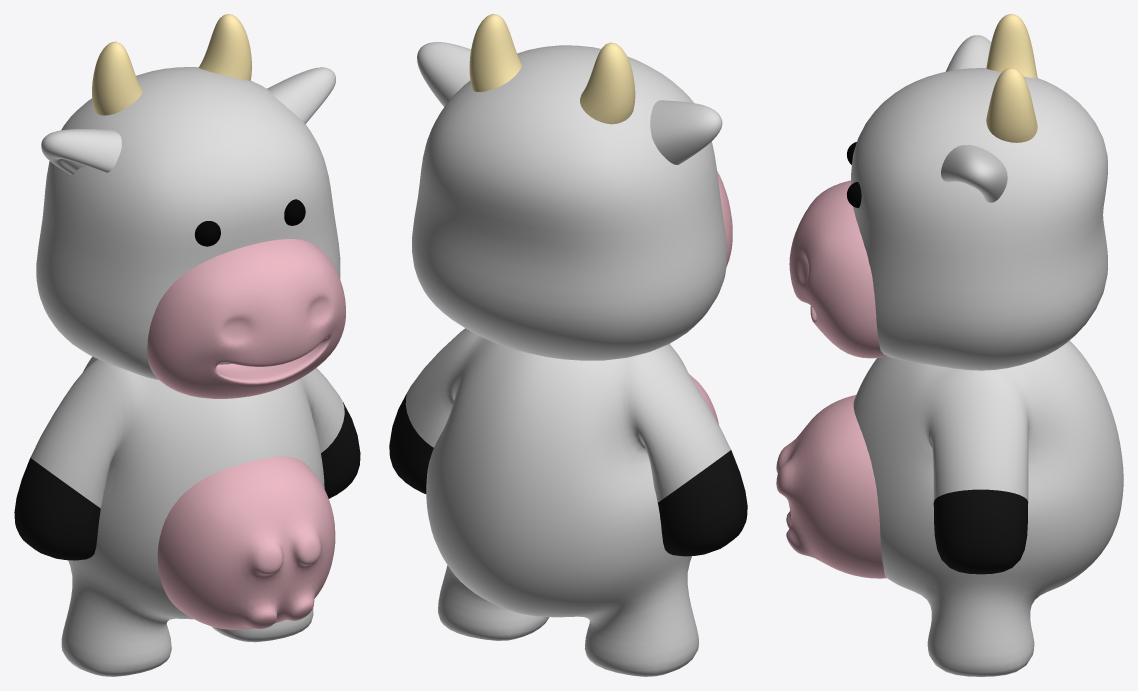
Rendered from Cow_3d.glb.
3 renders of one model, left to right at view 1: azimuth 30°, elevation 25°; view 2: azimuth 150°, elevation 25°; view 3: azimuth 270°, elevation 25°, orthographic. The views are drawn at different scales.
Visible parts, largest first — view 1: Cube.118, Cube.122, Cube.119, Cube.123, Cube.121, Cube.120, Sphere.026; view 2: Cube.122, Cube.118, Cube.120, Cube.121, Cube.119; view 3: Cube.122, Cube.118, Cube.123, Cube.119, Cube.120, Cube.121.
Boxes of the visible parts, x1,y1,x2,y2 form: Cube.118: (36,67,340,380); Cube.122: (14,356,360,676); Cube.119: (147,239,345,398); Cube.123: (157,456,335,629); Cube.121: (41,67,335,174); Cube.120: (92,14,251,115); Sphere.026: (194,199,305,246); Cube.122: (389,328,747,676); Cube.118: (412,45,726,360); Cube.120: (469,14,635,124); Cube.121: (417,42,722,164); Cube.119: (717,171,732,266); Cube.122: (853,340,1123,676); Cube.118: (851,68,1107,370); Cube.123: (776,395,886,578); Cube.119: (789,180,888,358); Cube.120: (986,14,1037,142); Cube.121: (941,35,1007,202).
Size of the model in its own units: 3.37 by 5.87 by 3.15.
